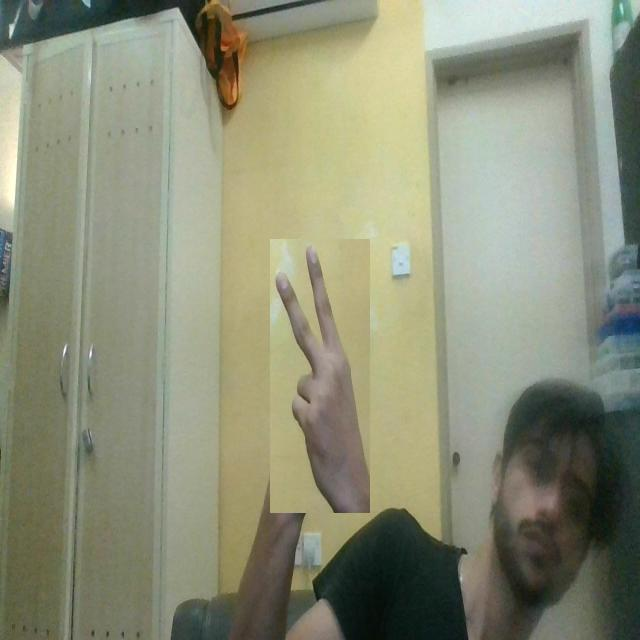peace: (270, 239, 370, 513)
